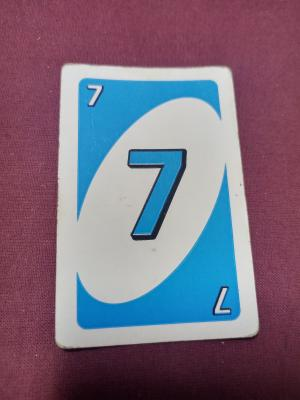blue: (69, 75, 244, 330)
num_7: (210, 282, 239, 320), (79, 79, 107, 114)
